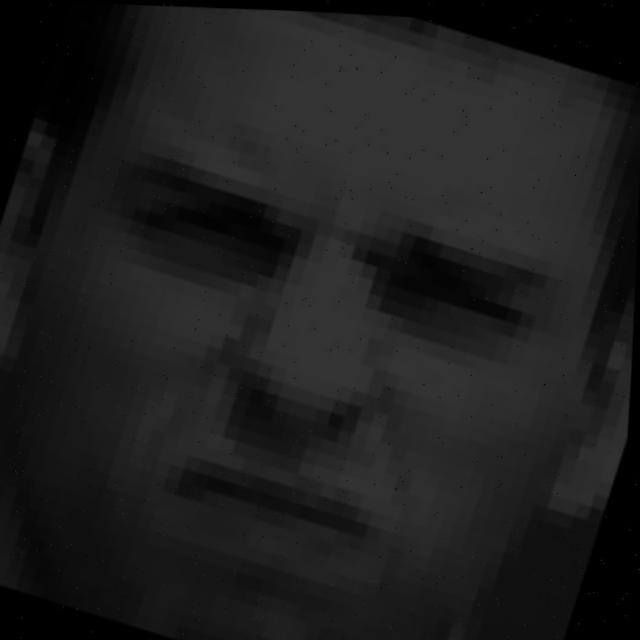Disgust: (5, 40, 620, 620)
